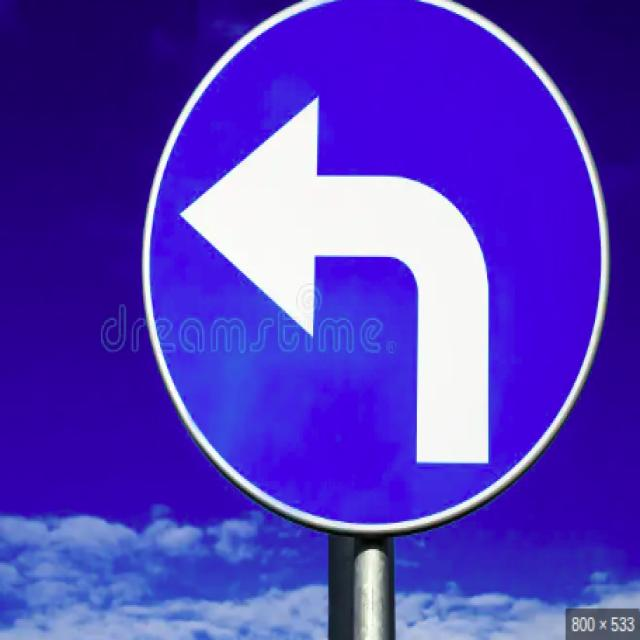LEFT: (143, 0, 611, 535)
